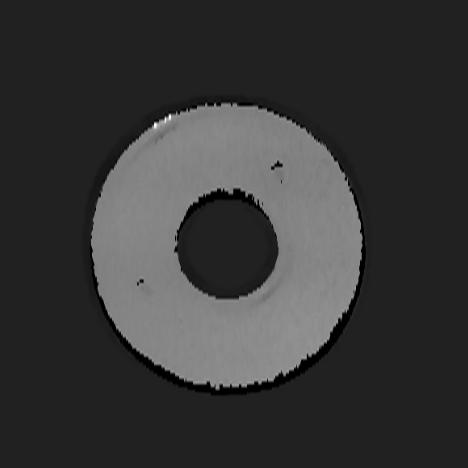defect: (270, 158, 285, 187), (137, 276, 153, 295)
